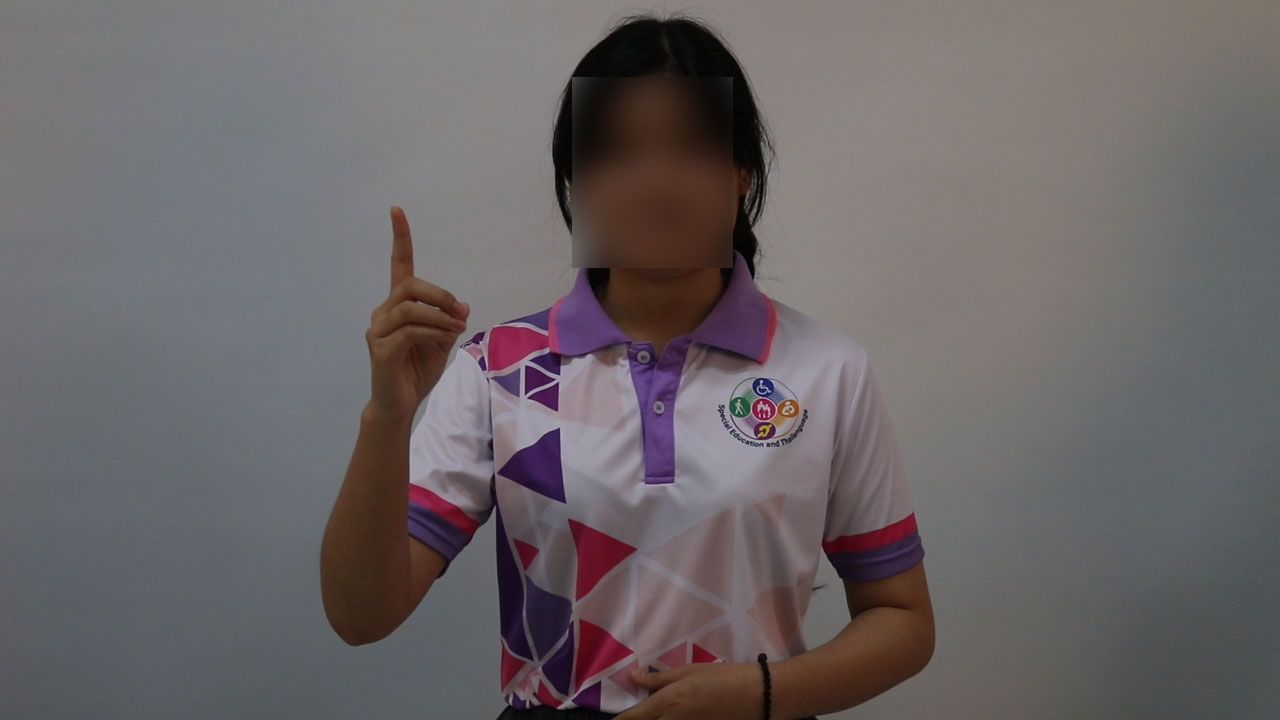dor: (340, 195, 474, 414)
